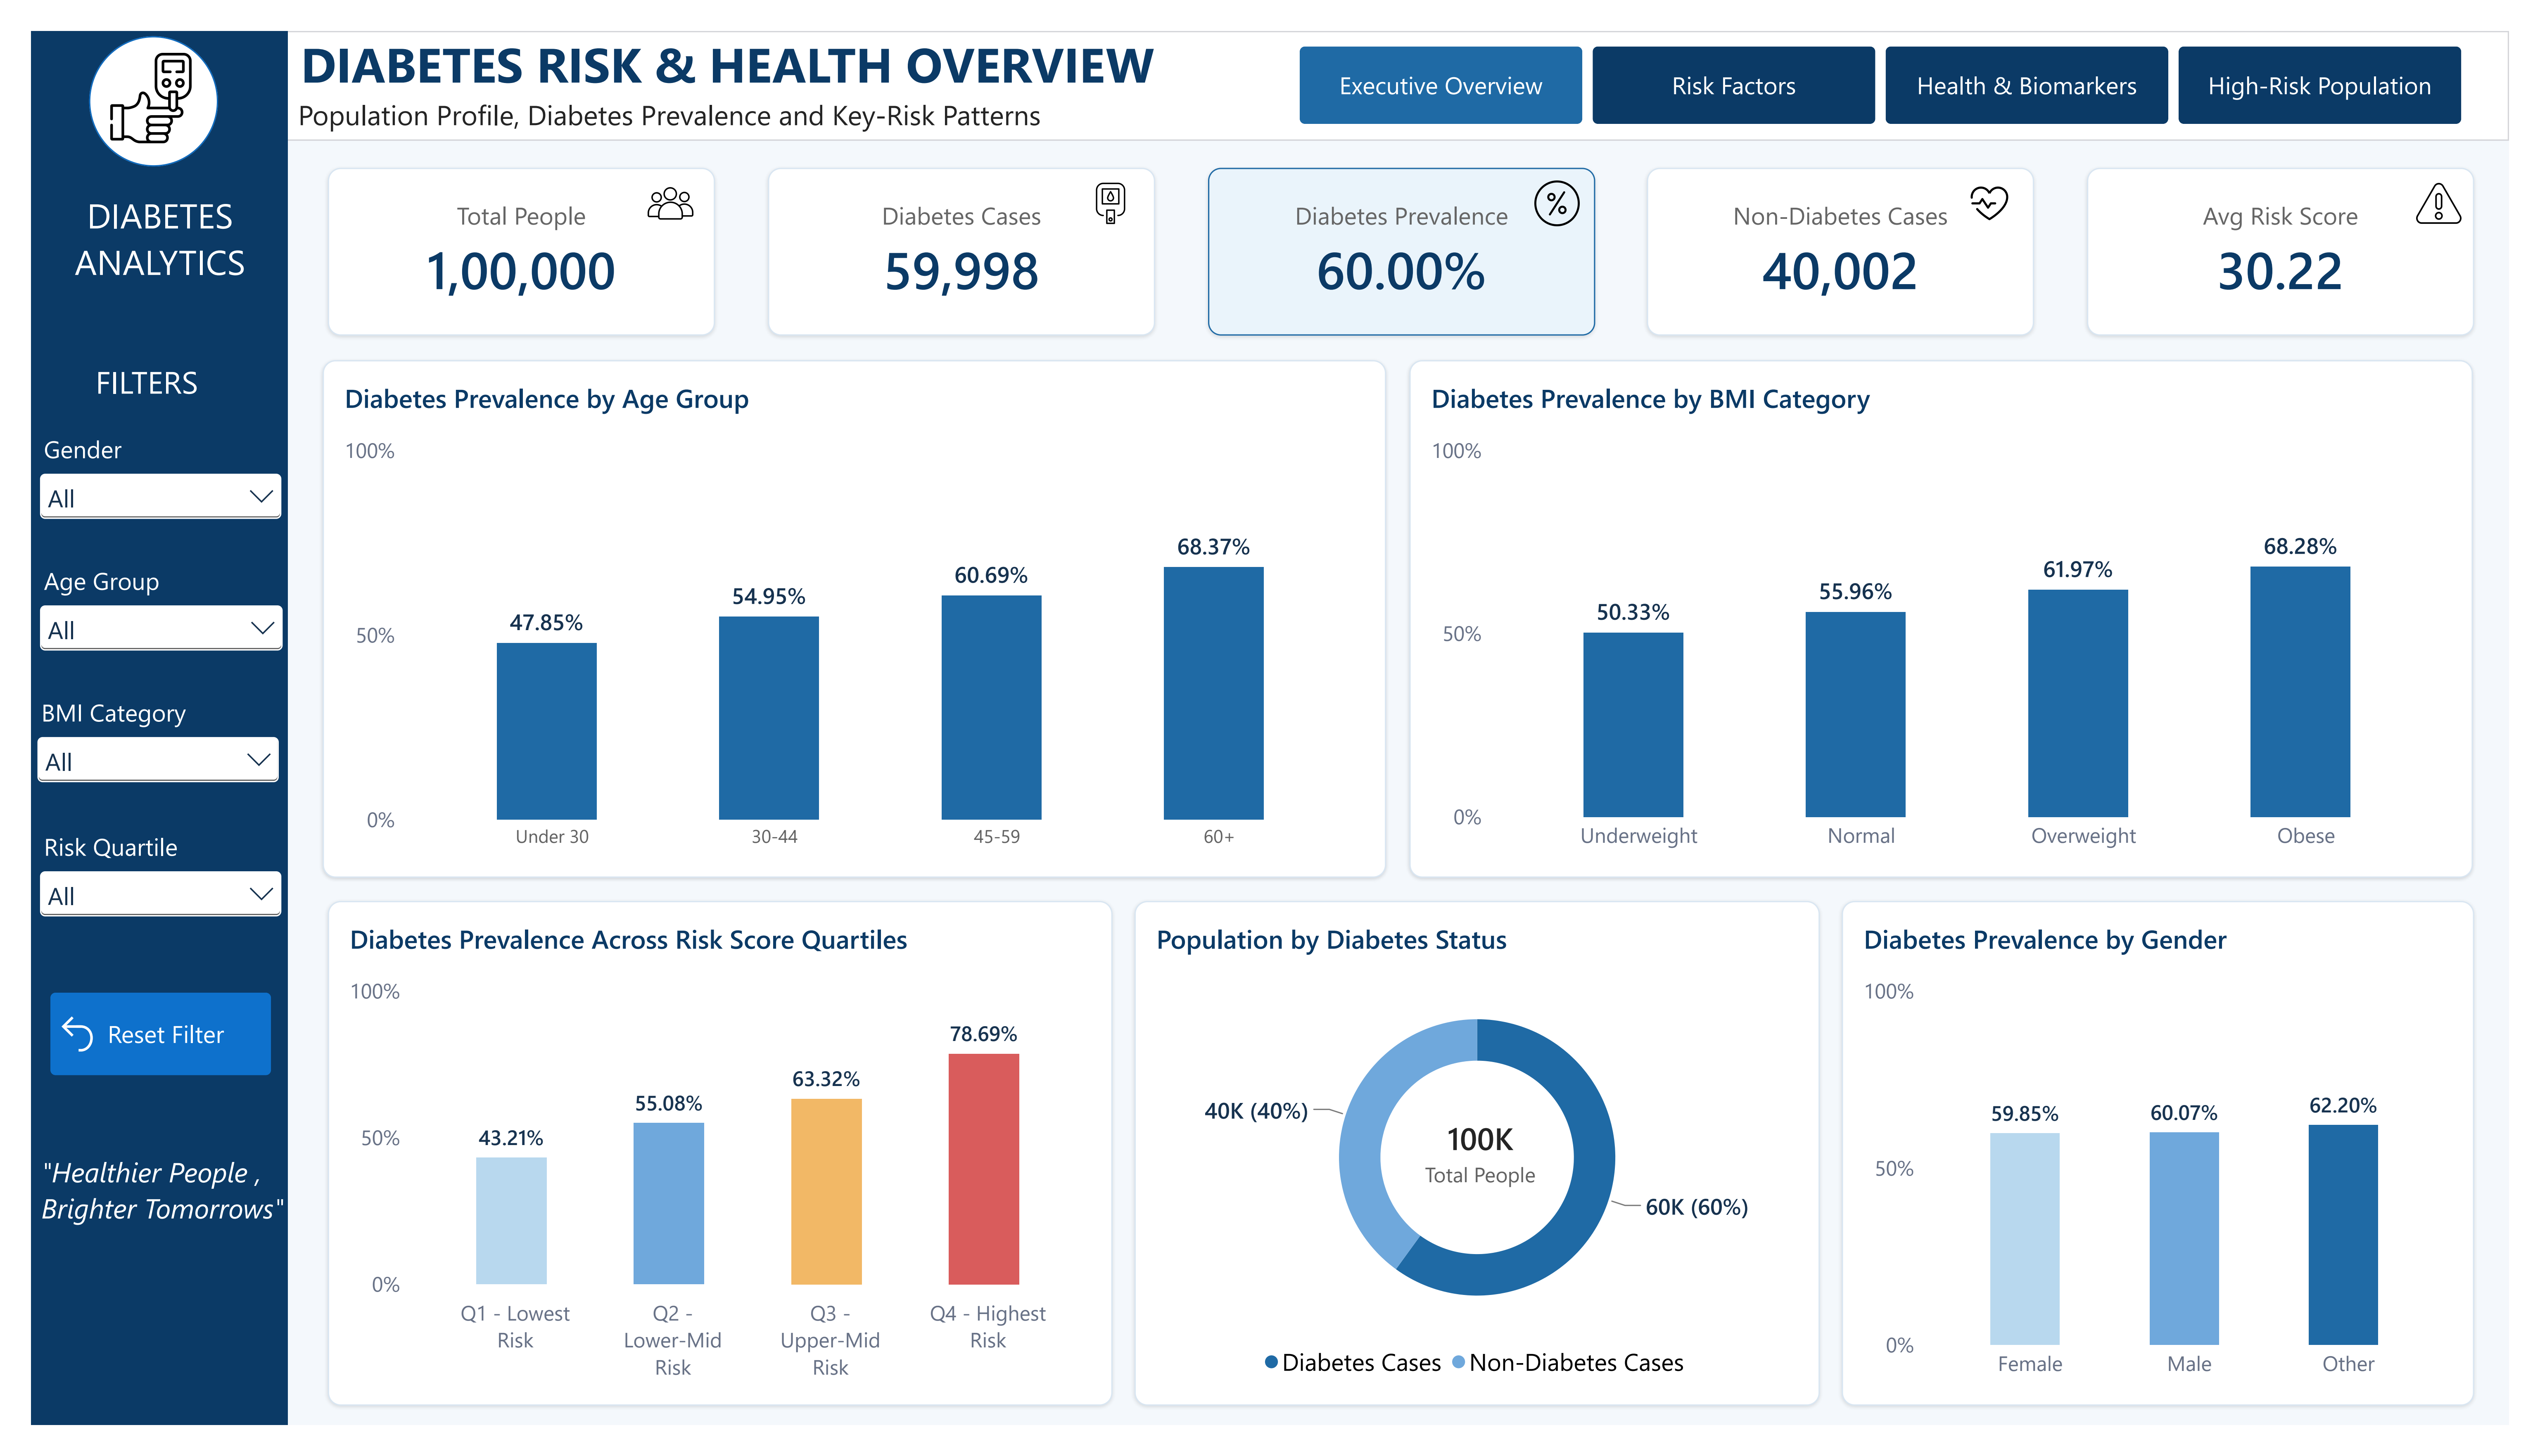

The dashboard page shown, as its layout file describes it:
{"tool":"powerbi","page":{"name":"Executive Overview","canvas":[1920,1080],"ordinal":0},"visuals":[{"type":"shape","box":[185.8,0,1734.2,85.2],"z":0},{"type":"shape","box":[0,0,199.4,1080],"z":1000},{"type":"cardVisual","fields":{"Data":["_Measures.Total People"]},"box":[230.3,106.5,300,130],"z":2000},{"type":"cardVisual","fields":{"Data":["_Measures.Diabetes Cases"]},"box":[571,106.5,300,130],"z":3000},{"type":"cardVisual","fields":{"Data":["_Measures.Diabetes Prevalence"]},"box":[911.6,106.5,300,130],"z":4000},{"type":"cardVisual","fields":{"Data":["_Measures.Avg Risk Score"]},"box":[1592.9,106.5,300,130],"z":5000},{"type":"cardVisual","fields":{"Data":["_Measures.Non-Diabetes Cases"]},"box":[1252.3,106.5,300,130],"z":6000},{"type":"clusteredColumnChart","title":"Diabetes Prevalence by Age Group","fields":{"Category":["DiabetesData.Age Group"],"Y":["_Measures.Diabetes Prevalence"]},"box":[226.5,255.2,824,400.6],"z":7000},{"type":"textbox","box":[209,0,687.1,50.3],"z":8000},{"type":"textbox","box":[207.1,50.3,611.6,35],"z":9000},{"type":"clusteredColumnChart","title":"Diabetes Prevalence by BMI Category","fields":{"Category":["DiabetesData.BMI GROUP"],"Y":["_Measures.Diabetes Prevalence"]},"box":[1068.4,255.5,824,400.6],"z":10000},{"type":"clusteredColumnChart","title":"Diabetes Prevalence Across Risk Score Quartiles","fields":{"Category":["DiabetesData.Risk Quartile"],"Y":["_Measures.Diabetes Prevalence"]},"box":[230.3,673.5,607.7,391],"z":11000},{"type":"donutChart","title":"Population by Diabetes Status","fields":{"Y":["_Measures.Diabetes Cases","_Measures.Non-Diabetes Cases"]},"box":[855.5,673.5,530.3,391],"z":12000},{"type":"slicer","fields":{"Values":["DiabetesData.gender"]},"box":[1.9,311.3,197.4,71.6],"z":13000},{"type":"slicer","fields":{"Values":["DiabetesData.Age Group"]},"box":[2.1,413,198.2,72.3],"z":14000},{"type":"slicer","fields":{"Values":["DiabetesData.BMI GROUP"]},"box":[0,515.4,197.4,73.5],"z":15000},{"type":"slicer","fields":{"Values":["DiabetesData.Risk Quartile"]},"box":[1.9,619,197.4,73.5],"z":16000},{"type":"actionButton","box":[15.5,745.2,170.3,63.9],"z":17000},{"type":"textbox","box":[7.7,869,195.5,65.8],"z":18000},{"type":"shape","box":[44.5,3.9,100.6,100.6],"z":19000},{"type":"pageNavigator","box":[983.2,11.6,900,60],"z":20000},{"type":"textbox","box":[50.3,255.5,85.2,32],"z":21000},{"type":"image","box":[58.1,17.4,69.7,69.7],"z":22000},{"type":"textbox","box":[9.7,123.9,180,94.8],"z":23000},{"type":"cardVisual","fields":{"Data":["_Measures.Total People"]},"box":[1042.6,834.5,160.6,69.7],"z":24000},{"type":"image","box":[478.1,115.7,35,35],"z":25000},{"type":"image","box":[818.7,115.7,35,35],"z":26000},{"type":"image","box":[1165.2,115.7,35,35],"z":27000},{"type":"image","box":[1848.4,115.7,35,35],"z":28000},{"type":"clusteredColumnChart","title":"Diabetes Prevalence by Gender","fields":{"Category":["DiabetesData.gender"],"Y":["_Measures.Diabetes Prevalence"]},"box":[1403.2,673.5,489.7,391],"z":28001},{"type":"image","box":[1500,115.7,35,35],"z":28002}]}

Visuals, with their boxes on the page's 1920x1080 design canvas (x1, y1, x2, y2). These are canvas units, not pixel positions in the 2540x1456 screenshot, which may show the page scaled, cropped or inside an application window:
shape: rect(186, 0, 1920, 85)
shape: rect(0, 0, 199, 1080)
cardVisual - _Measures.Total People: rect(230, 106, 530, 236)
cardVisual - _Measures.Diabetes Cases: rect(571, 106, 871, 236)
cardVisual - _Measures.Diabetes Prevalence: rect(912, 106, 1212, 236)
cardVisual - _Measures.Avg Risk Score: rect(1593, 106, 1893, 236)
cardVisual - _Measures.Non-Diabetes Cases: rect(1252, 106, 1552, 236)
"Diabetes Prevalence by Age Group" clusteredColumnChart: rect(226, 255, 1050, 656)
textbox: rect(209, 0, 896, 50)
textbox: rect(207, 50, 819, 85)
"Diabetes Prevalence by BMI Category" clusteredColumnChart: rect(1068, 256, 1892, 656)
"Diabetes Prevalence Across Risk Score Quartiles" clusteredColumnChart: rect(230, 674, 838, 1064)
"Population by Diabetes Status" donutChart: rect(856, 674, 1386, 1064)
slicer - DiabetesData.gender: rect(2, 311, 199, 383)
slicer - DiabetesData.Age Group: rect(2, 413, 200, 485)
slicer - DiabetesData.BMI GROUP: rect(0, 515, 197, 589)
slicer - DiabetesData.Risk Quartile: rect(2, 619, 199, 692)
actionButton: rect(16, 745, 186, 809)
textbox: rect(8, 869, 203, 935)
shape: rect(44, 4, 145, 104)
pageNavigator: rect(983, 12, 1883, 72)
textbox: rect(50, 256, 136, 288)
image: rect(58, 17, 128, 87)
textbox: rect(10, 124, 190, 219)
cardVisual - _Measures.Total People: rect(1043, 834, 1203, 904)
image: rect(478, 116, 513, 151)
image: rect(819, 116, 854, 151)
image: rect(1165, 116, 1200, 151)
image: rect(1848, 116, 1883, 151)
"Diabetes Prevalence by Gender" clusteredColumnChart: rect(1403, 674, 1893, 1064)
image: rect(1500, 116, 1535, 151)
